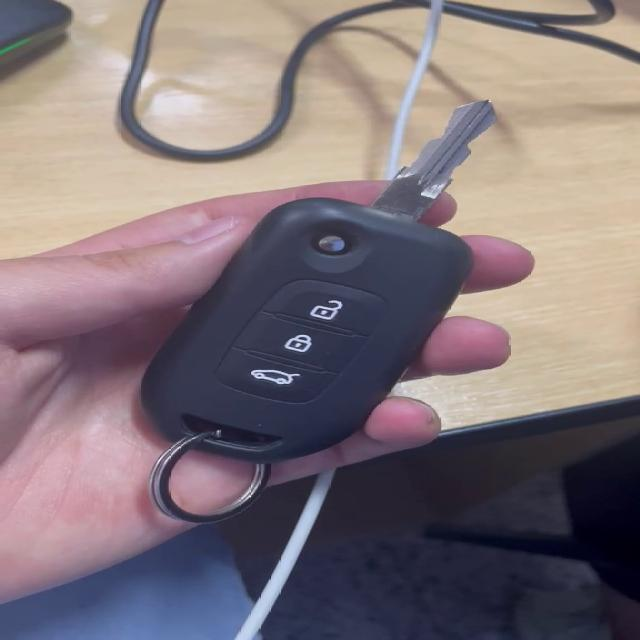llave-auto: (135, 97, 495, 528)
